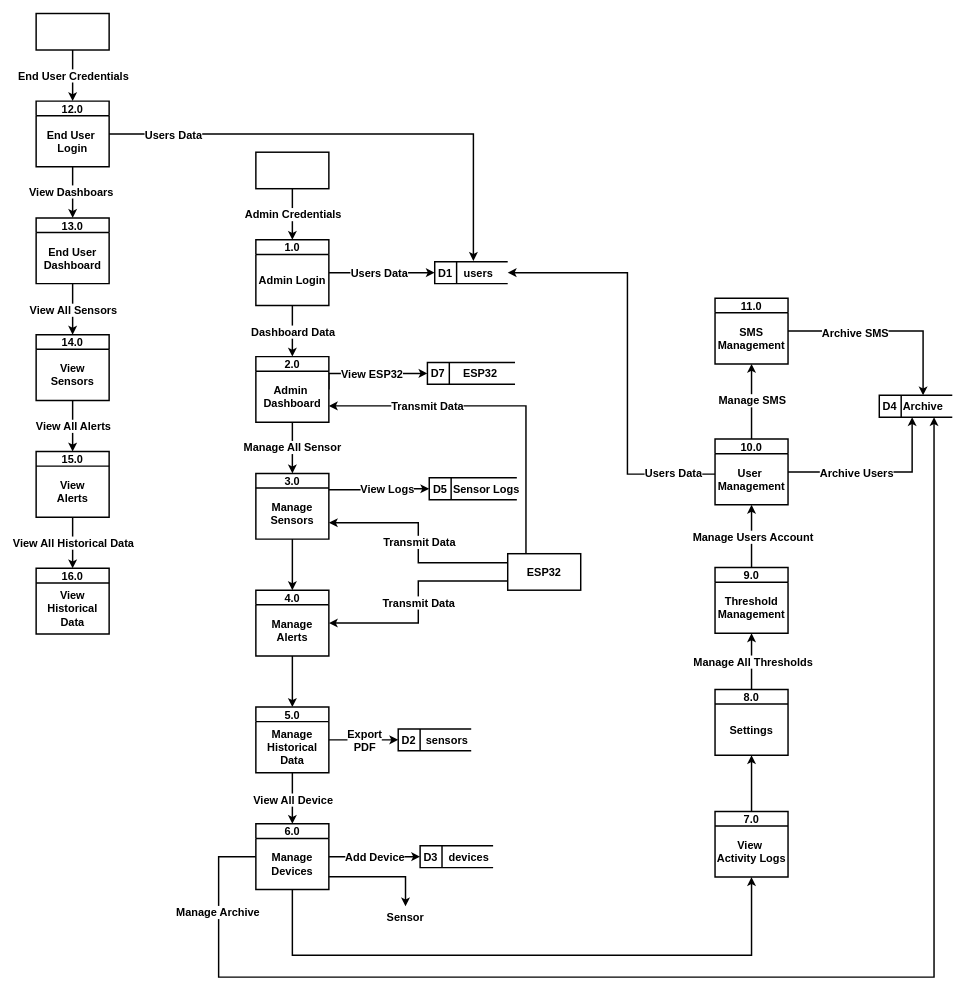
Image size: 966x996. Some labels were removed from this diagram. Here are the shapes that lost their labels. From the top down, the centre of each, then its label:
At (72,31): "End User".
At (292,170): "Admin".
